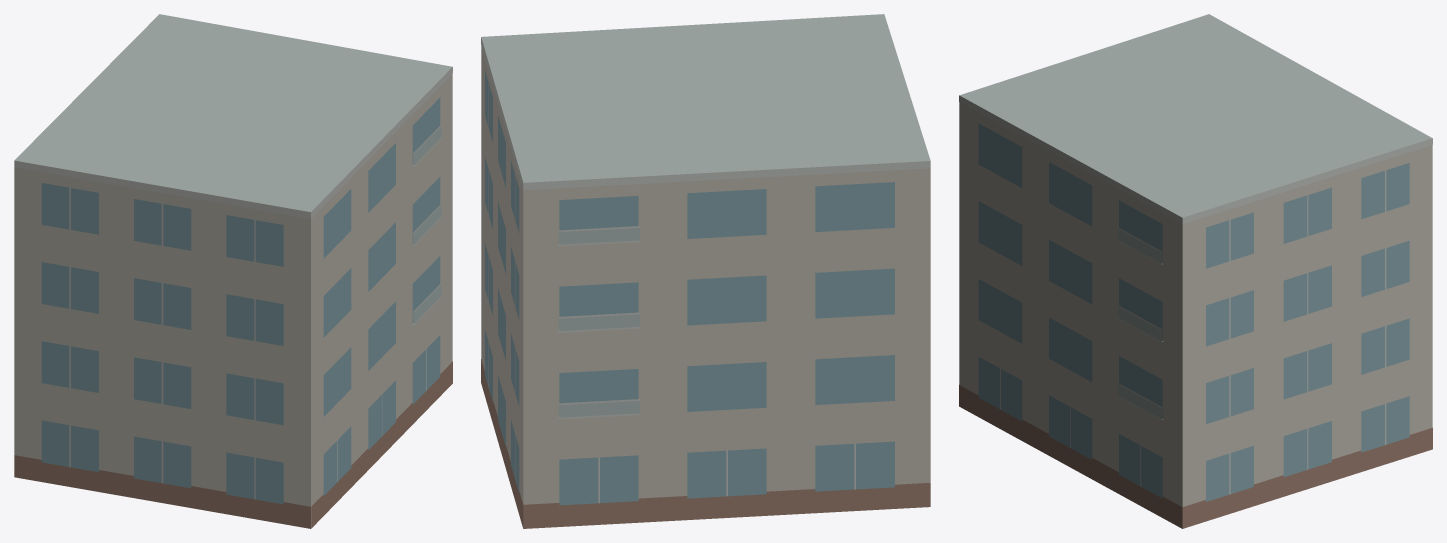
The model's file is survey-upis-32908777.glb.
3 views of the same model, side by side, from view 1: azimuth 30°, elevation 25°; view 2: azimuth 150°, elevation 25°; view 3: azimuth 270°, elevation 25° (orthographic). The views are drawn at different scales.
Parts seen in each view (by area): view 1: survey-upis-32908777.tmp; view 2: survey-upis-32908777.tmp; view 3: survey-upis-32908777.tmp.
Part boxes in pixels (x1=…): survey-upis-32908777.tmp: x1=14, y1=14, x2=452, y2=528; survey-upis-32908777.tmp: x1=481, y1=14, x2=930, y2=528; survey-upis-32908777.tmp: x1=959, y1=14, x2=1432, y2=528.
Size of the model in its own units: 16.13 by 11.48 by 15.84.
